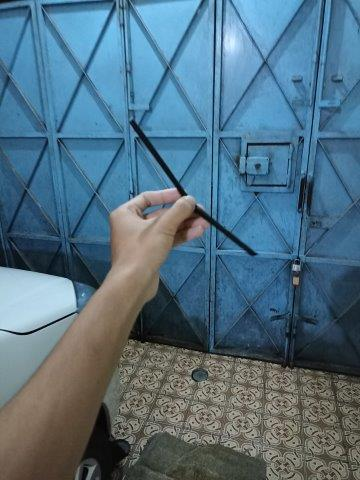sedotan: (129, 120, 256, 255)
